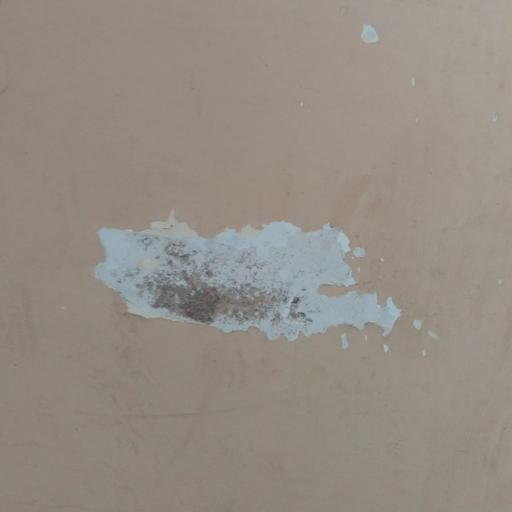peeling: (74, 202, 460, 361), (357, 26, 390, 55)
